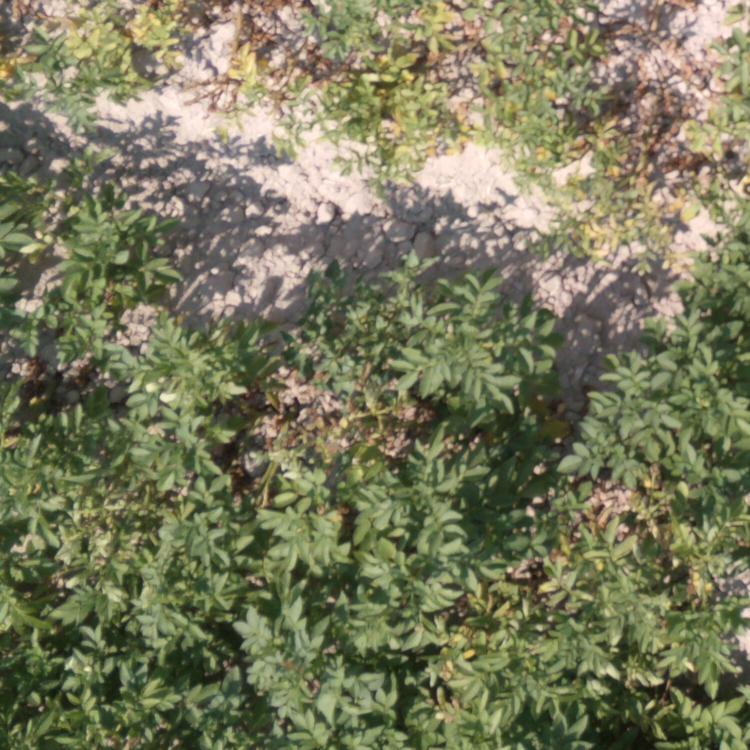healthy: (182, 474, 463, 740), (472, 479, 747, 745), (261, 248, 557, 459), (1, 443, 177, 744), (7, 123, 171, 427), (590, 312, 740, 470), (178, 324, 248, 461), (691, 227, 743, 302)
stressed: (352, 1, 476, 188), (582, 82, 679, 295), (13, 1, 216, 98), (221, 1, 345, 142), (489, 1, 568, 175), (693, 1, 750, 206)
